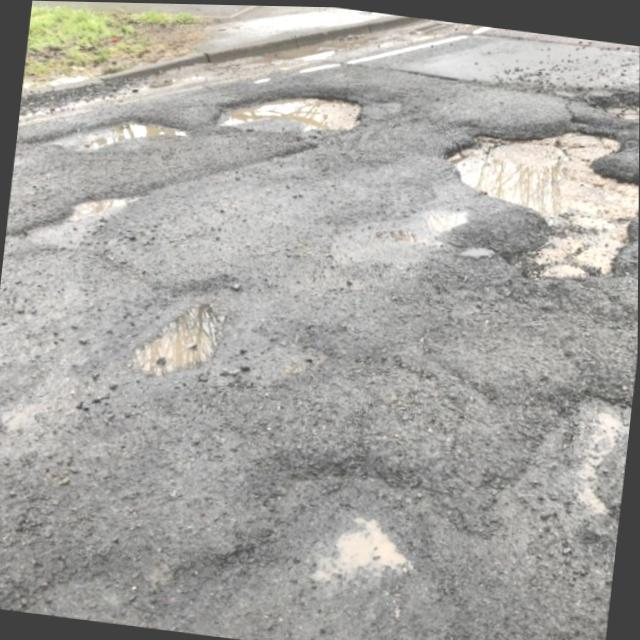Pothole: (7, 387, 633, 640), (436, 117, 639, 278), (134, 290, 238, 374), (201, 81, 371, 129), (13, 188, 148, 241), (27, 114, 186, 156), (572, 89, 640, 117)
